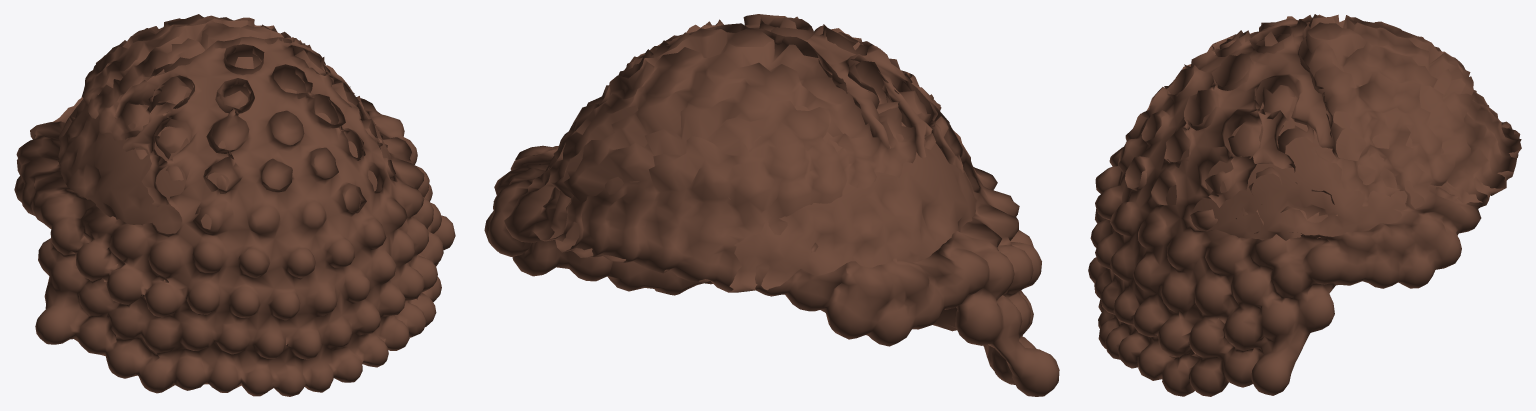
Rendered from hair_curly_f.glb.
The picture shows the model from 3 angles, left to right: view 1: azimuth 30°, elevation 25°; view 2: azimuth 150°, elevation 25°; view 3: azimuth 270°, elevation 25°; orthographic projection. The views are drawn at different scales.
Parts seen in each view (by area): view 1: Acc_hair_curly_HairCurly; view 2: Acc_hair_curly_HairCurly; view 3: Acc_hair_curly_HairCurly.
Part boxes in pixels (<box>): Acc_hair_curly_HairCurly: <box>14,14,455,396</box>; Acc_hair_curly_HairCurly: <box>484,14,1059,396</box>; Acc_hair_curly_HairCurly: <box>1088,14,1521,396</box>.
Bounding box in the file's own units: 0.4556 × 0.3 × 0.384.
